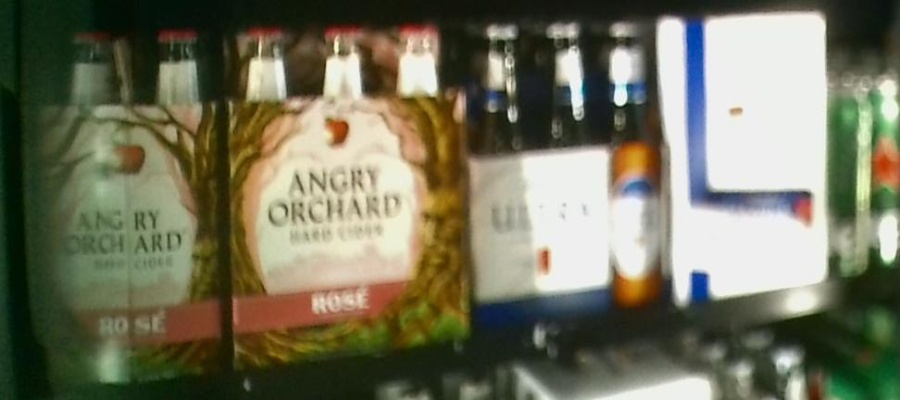bottle: (229, 25, 473, 351), (21, 25, 228, 385), (472, 20, 667, 326), (659, 15, 830, 284)
